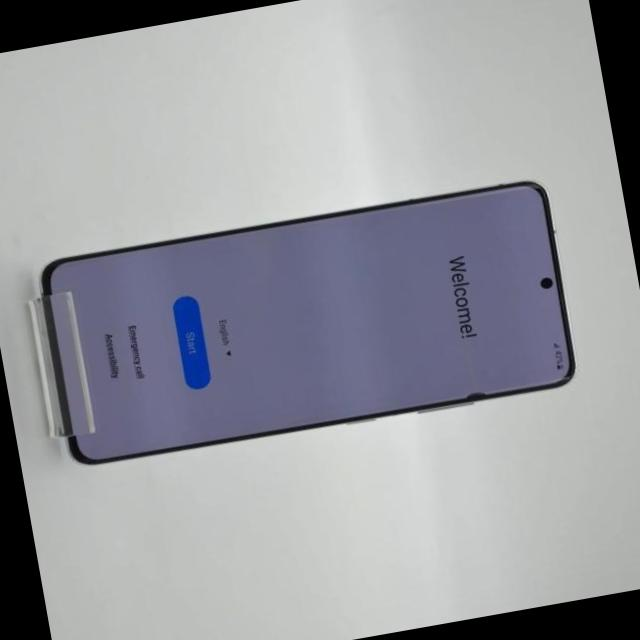dead pixel: (456, 378, 504, 419)
